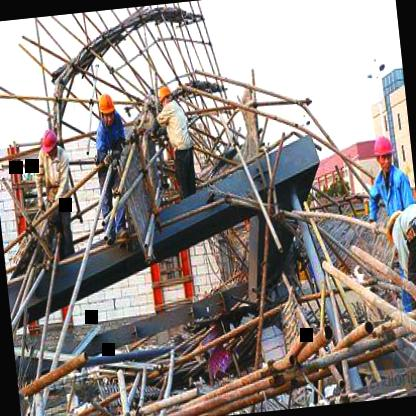helmet: (36, 124, 63, 174), (372, 130, 396, 173), (93, 92, 120, 128), (154, 82, 173, 110)
